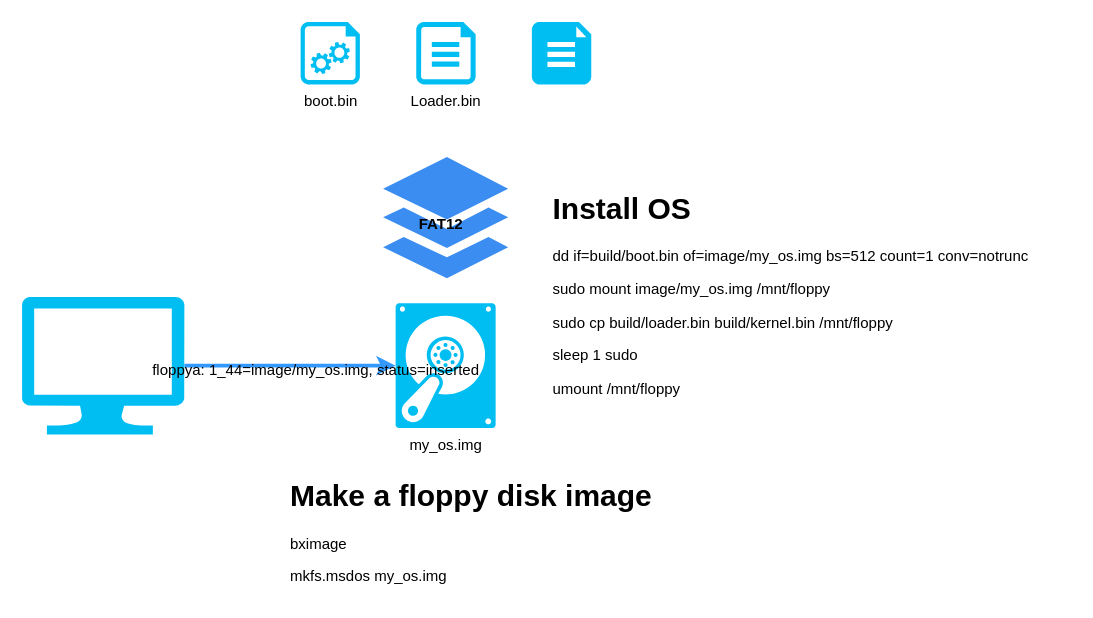
Some shapes in this 1093 by 618 pixel diagram are drawn without their labels. The box of each missing label's shape, as (x1, y1, x2, y2) in pixels:
bochs: (21, 296, 184, 434)
kernel.bin: (531, 21, 591, 84)
